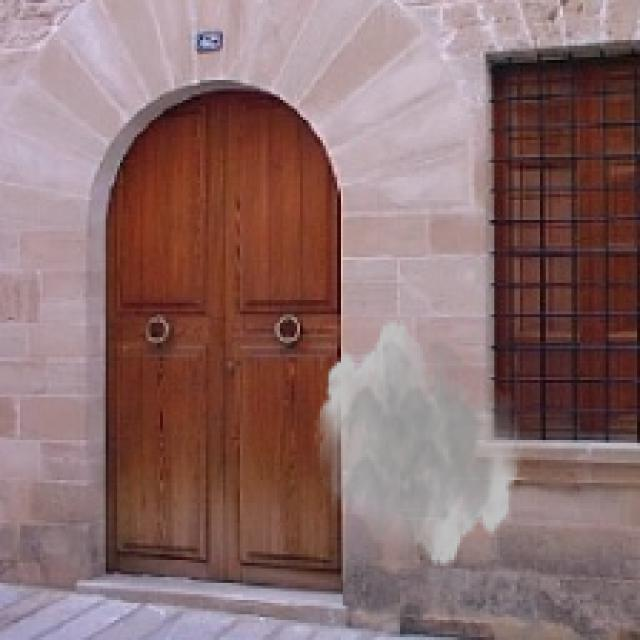smoke: (314, 317, 523, 569)
